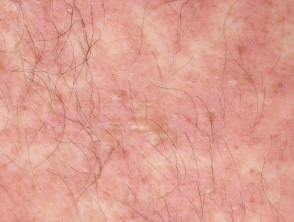SJS-TEN: (0, 0, 289, 219)
